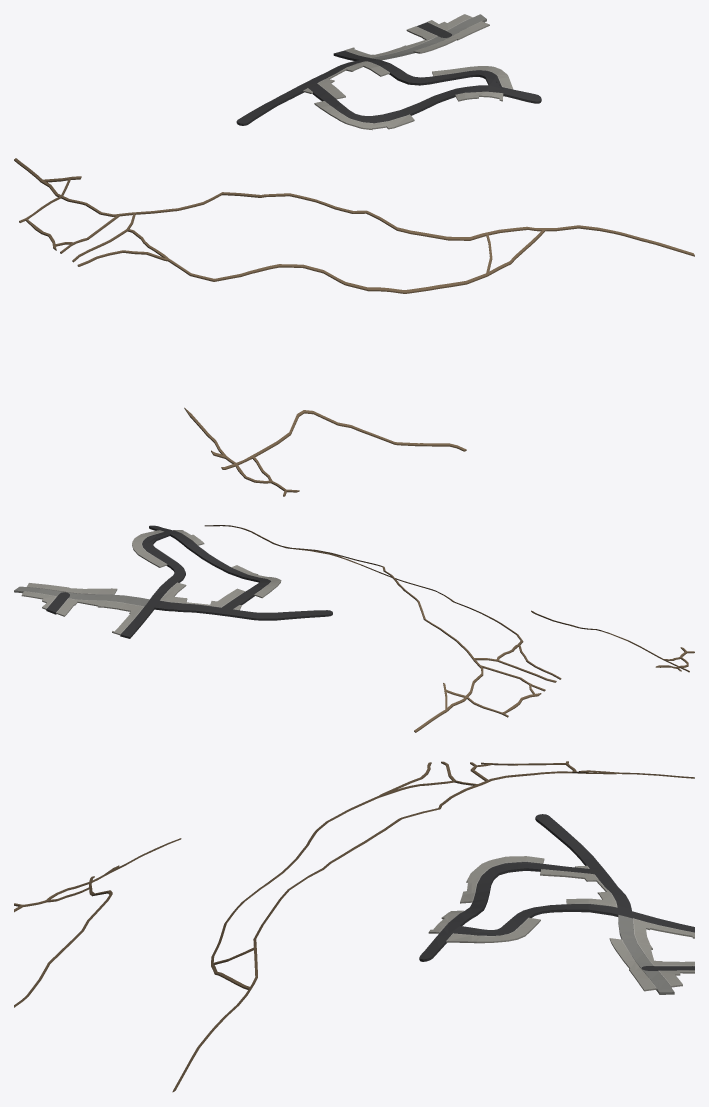
3 renders of one model, top to bottom at view 1: azimuth 30°, elevation 25°; view 2: azimuth 150°, elevation 25°; view 3: azimuth 270°, elevation 25°, orthographic. The views are drawn at different scales.
Bounding box in the file's own units: 293 × 97.22 × 292.
